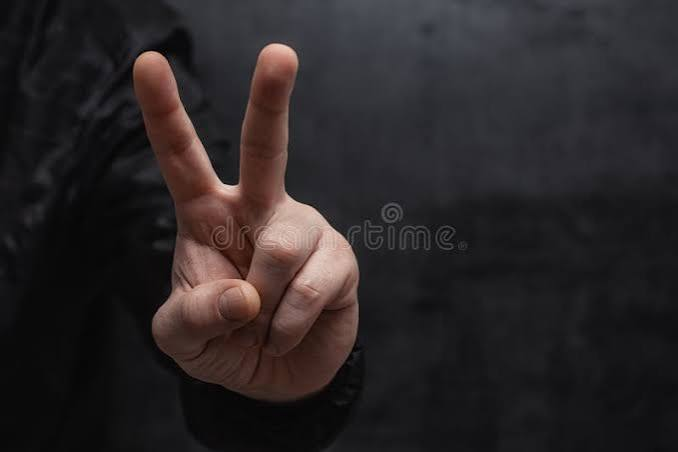peace_sign: (131, 32, 365, 404)
